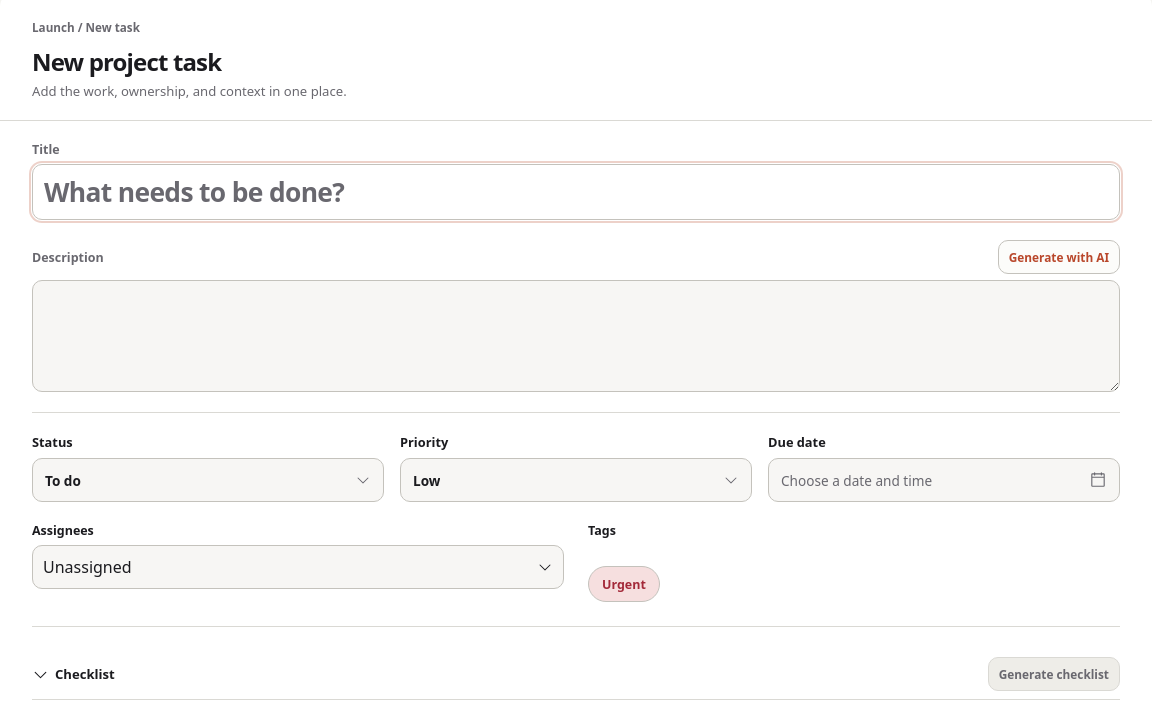
Test: keeps a failed project-task draft visible for retry
Type "Review copy" into the field labelled "Title".
click(576, 192); type("Review copy")  # box [32,164,1120,220]
(page scrolled)
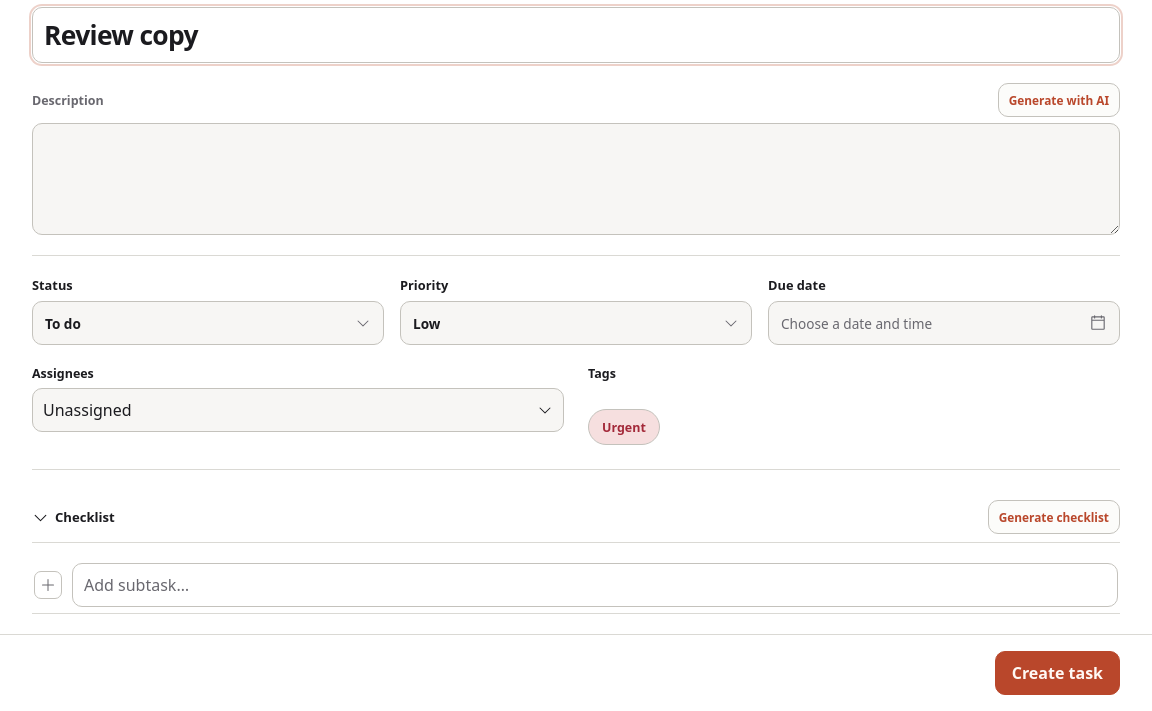
Click the button "Create task".
click(1057, 673)  # box [995,651,1120,695]
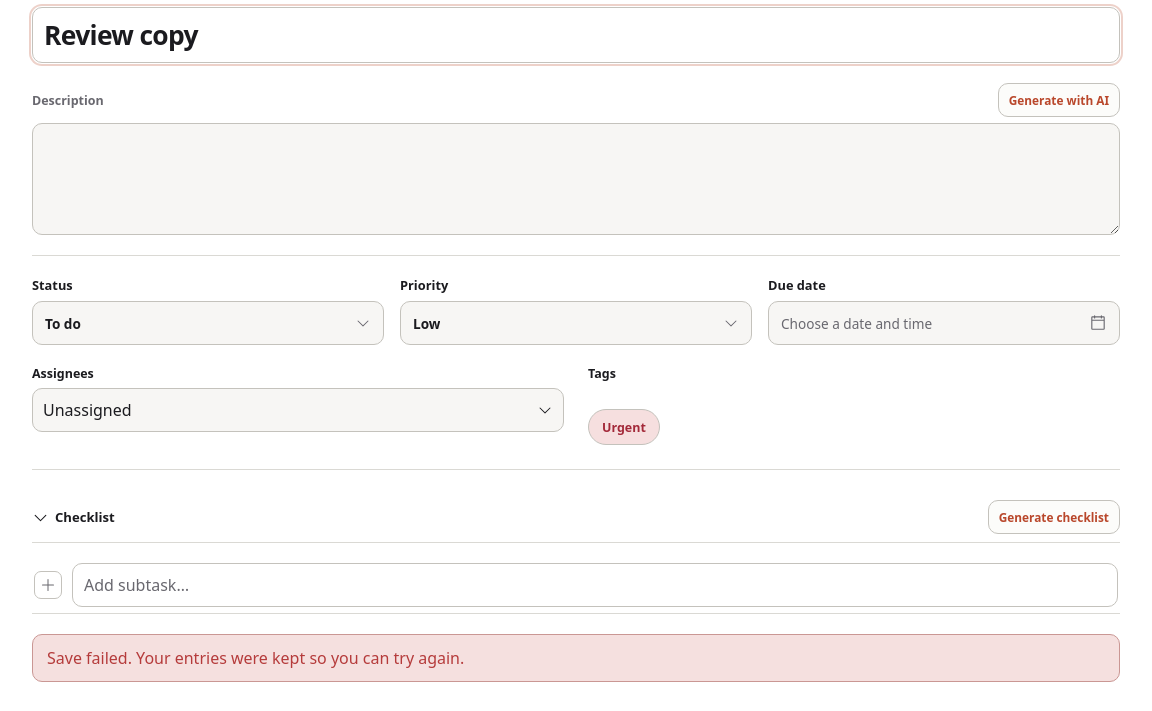
Result: the message shows "Save failed. Your entries were kept" at [47,647,464,669]
